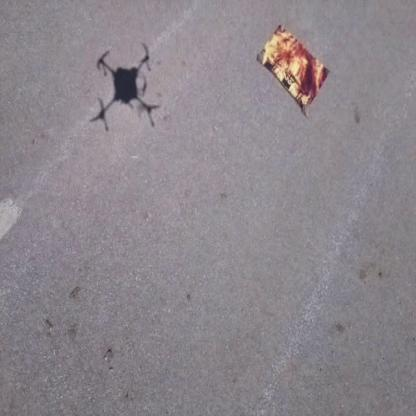fire-poster: (255, 22, 330, 120)
